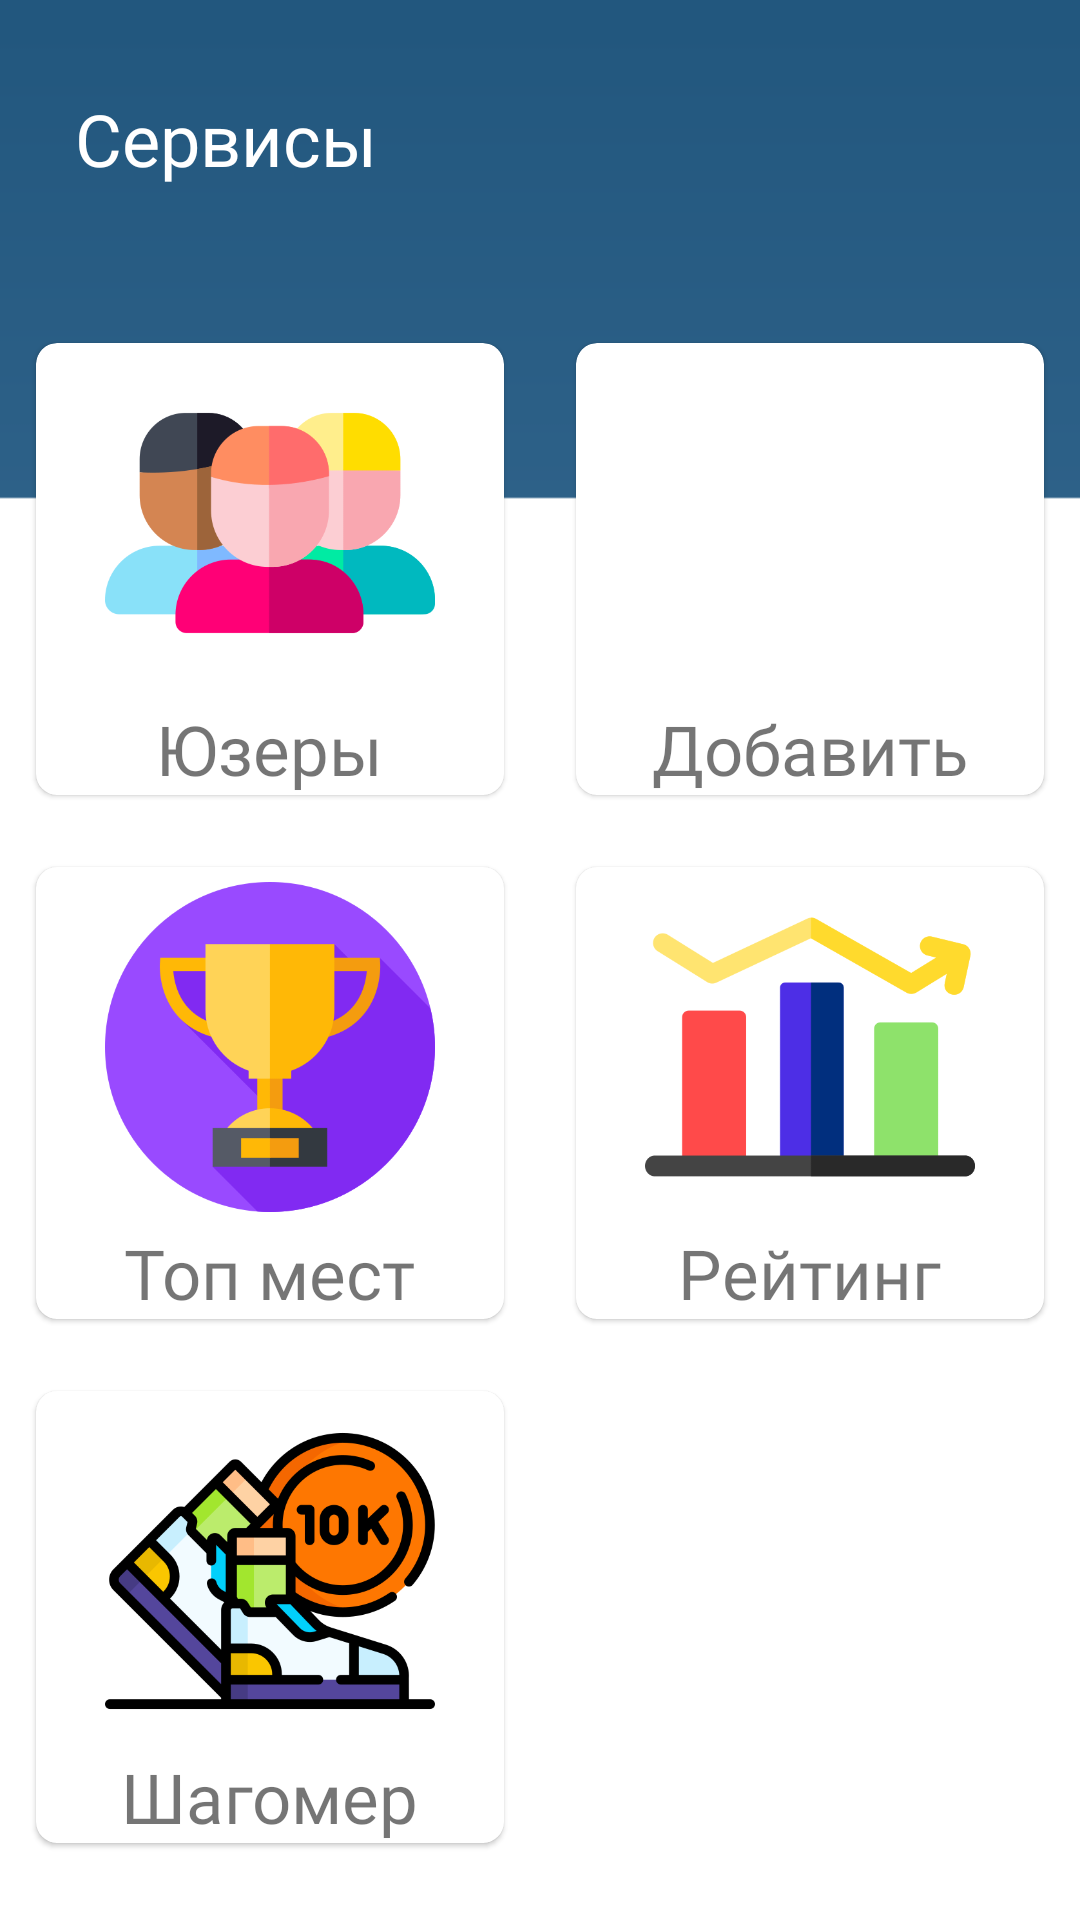

Point at icon controls on the screen. Image size 1080*1920, points as point (x, y).
freinds: point (270, 523)
